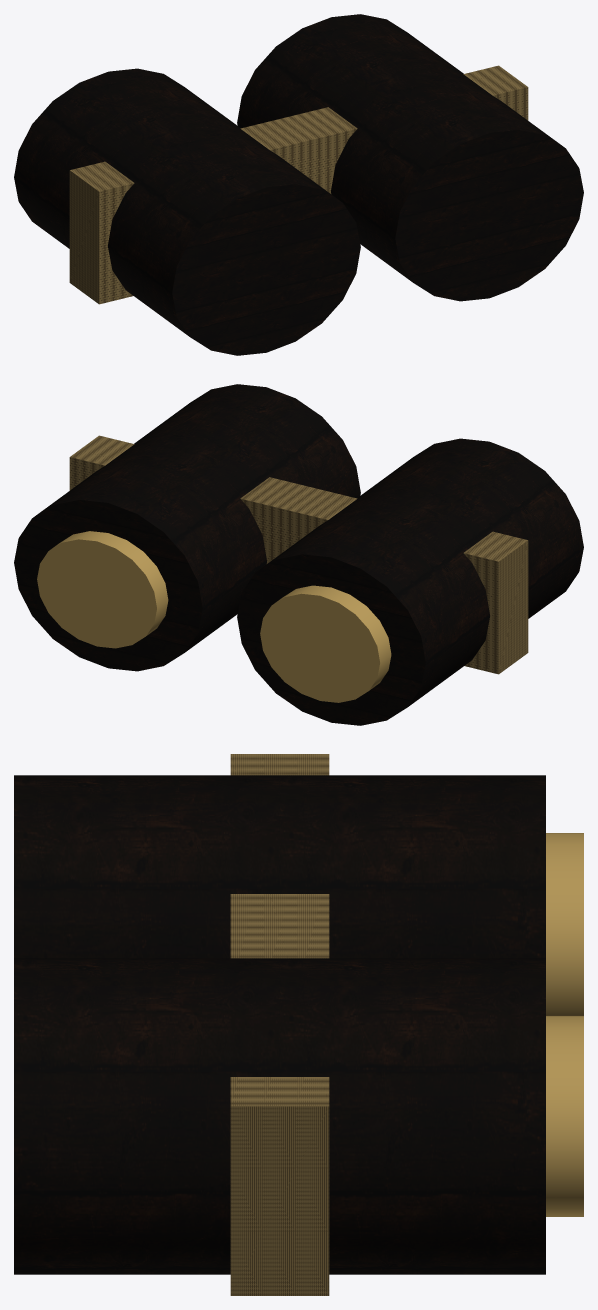
The picture shows the model from 3 angles, top to bottom: view 1: azimuth 30°, elevation 25°; view 2: azimuth 150°, elevation 25°; view 3: azimuth 270°, elevation 25°; orthographic projection. The views are drawn at different scales.
Visible parts, largest first — view 1: b-battery; view 2: b-battery; view 3: b-battery.
Boxes of the visible parts, x1=… form: b-battery: x1=14, y1=14, x2=583, y2=355; b-battery: x1=14, y1=384, x2=583, y2=725; b-battery: x1=14, y1=754, x2=583, y2=1295.
Bounding box in the file's own units: 0.095 × 0.035 × 0.065.
Materials: 3 (2 with a texture image).
